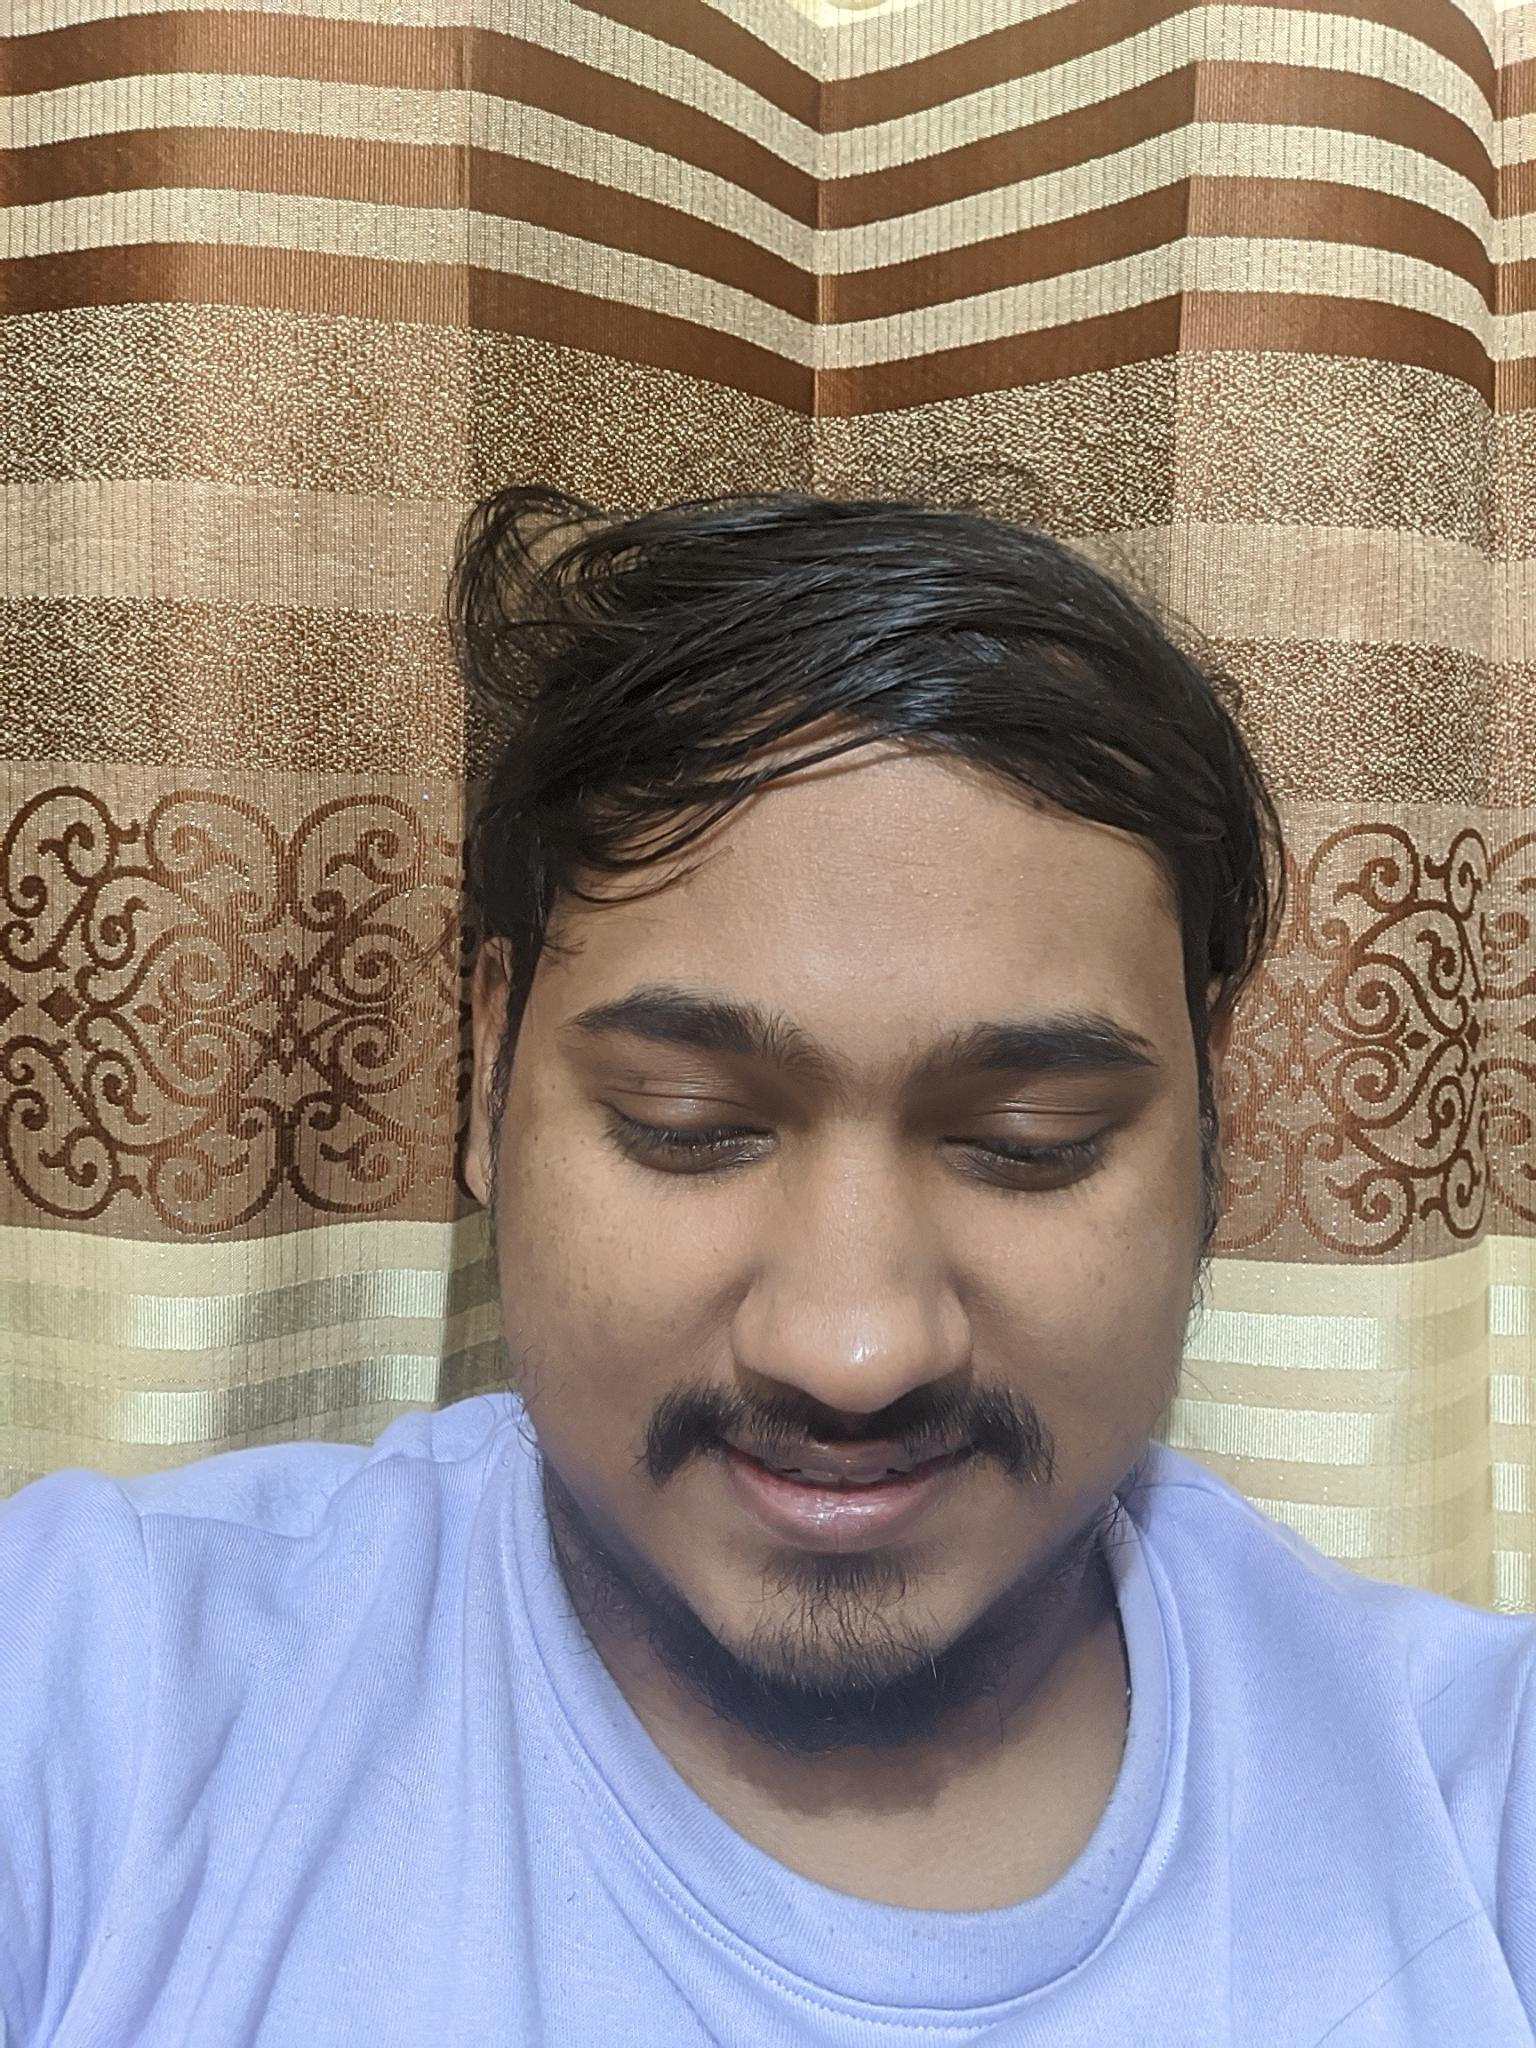Happy: (529, 837, 1191, 1721)
